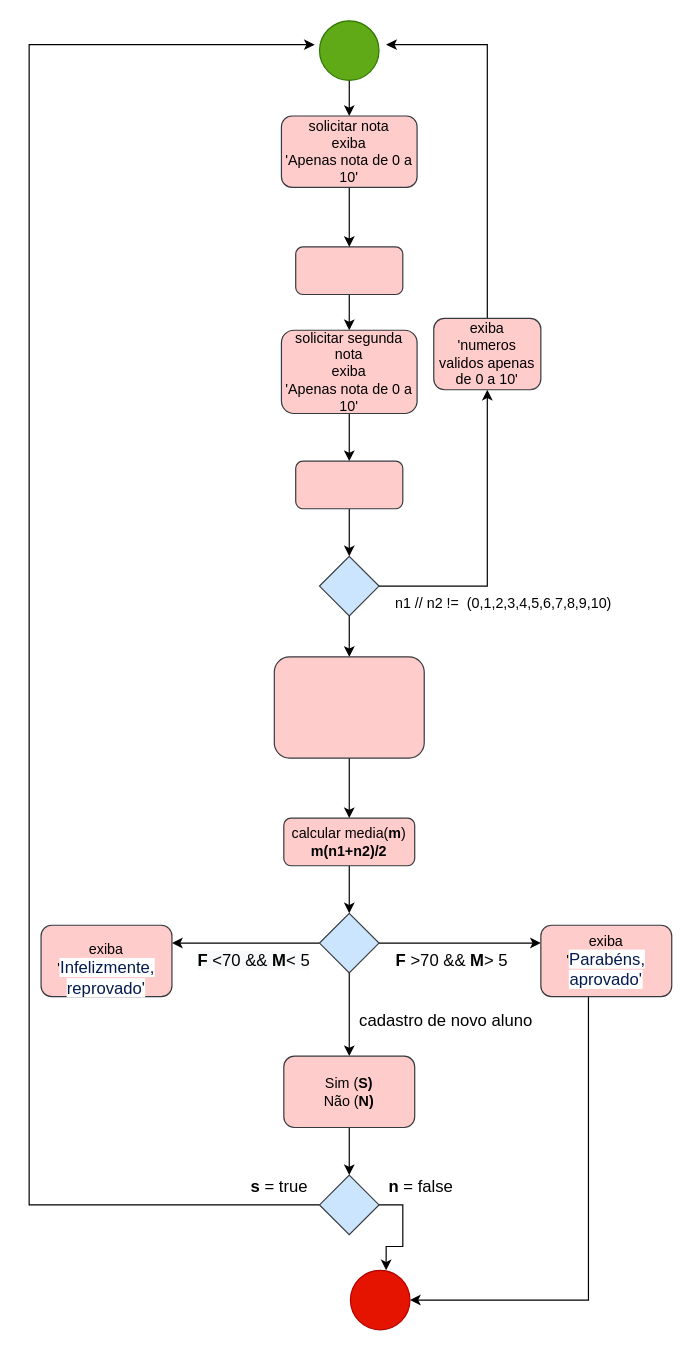
Image size: 693x1351. Some labels were removed from this diagram. The box of each missing label's shape, as (x1, y1, x2, y2) in pixels:
ler nota 1 ( n1 ): (295, 246, 403, 295)
ler nota 2 ( n2 ): (295, 460, 403, 509)
solicitar frequencia (F) exiba 'Apenas numeros(frequencia de) de 0 a 100': (273, 656, 424, 758)
